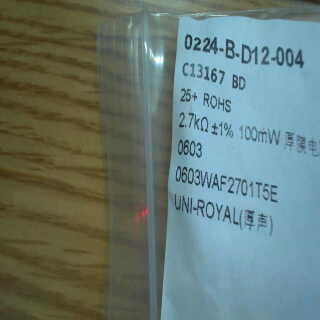2.7kR: (174, 110, 210, 136)
